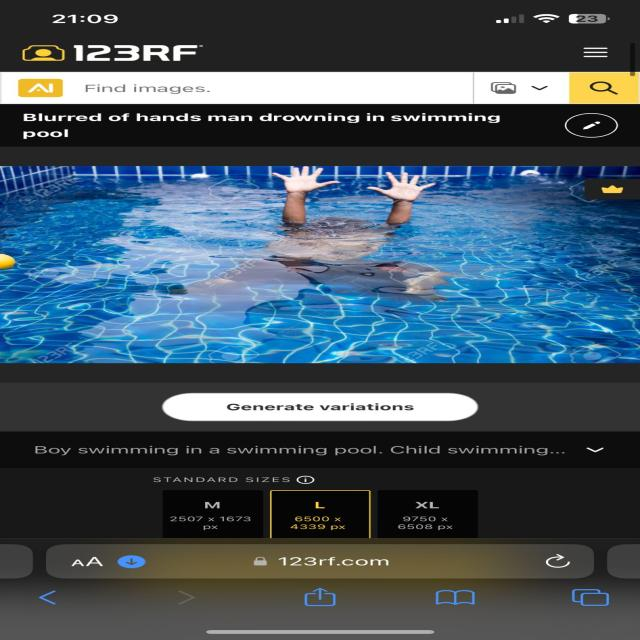Drowning: (235, 166, 431, 292)
